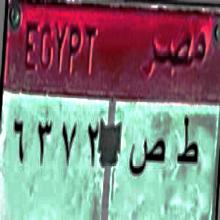2: (85, 120, 100, 168)
3: (35, 113, 54, 175)
6: (11, 113, 28, 167)
7: (60, 118, 77, 170)
Taa: (174, 111, 198, 172)
saad: (130, 130, 165, 187)
